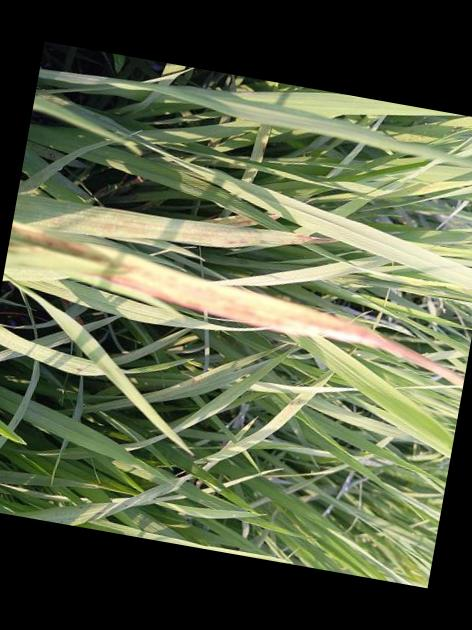Leaf Blight: (27, 233, 465, 386)
